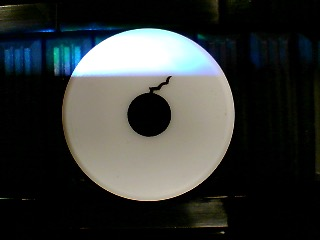CRACK: (60, 27, 236, 202)
